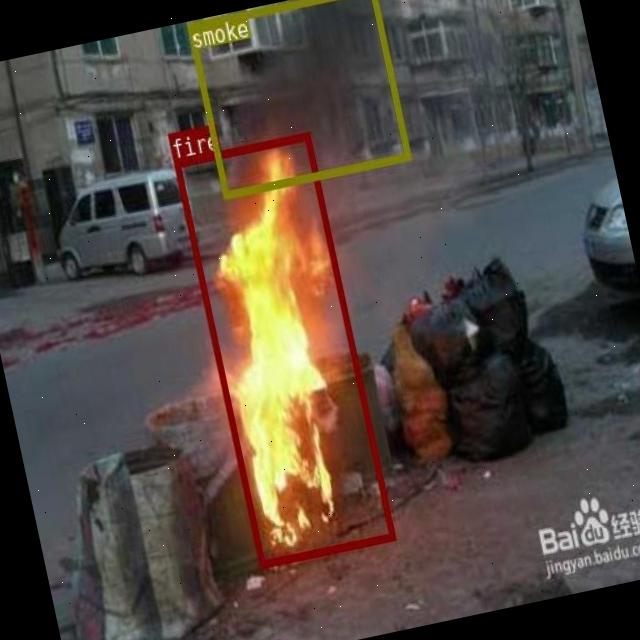fire: (173, 131, 395, 567)
smoke: (185, 0, 410, 198)
